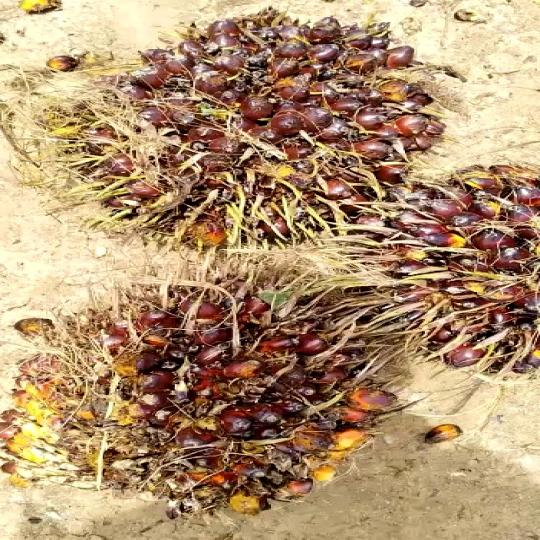masak: (0, 259, 421, 519), (59, 8, 462, 264)
